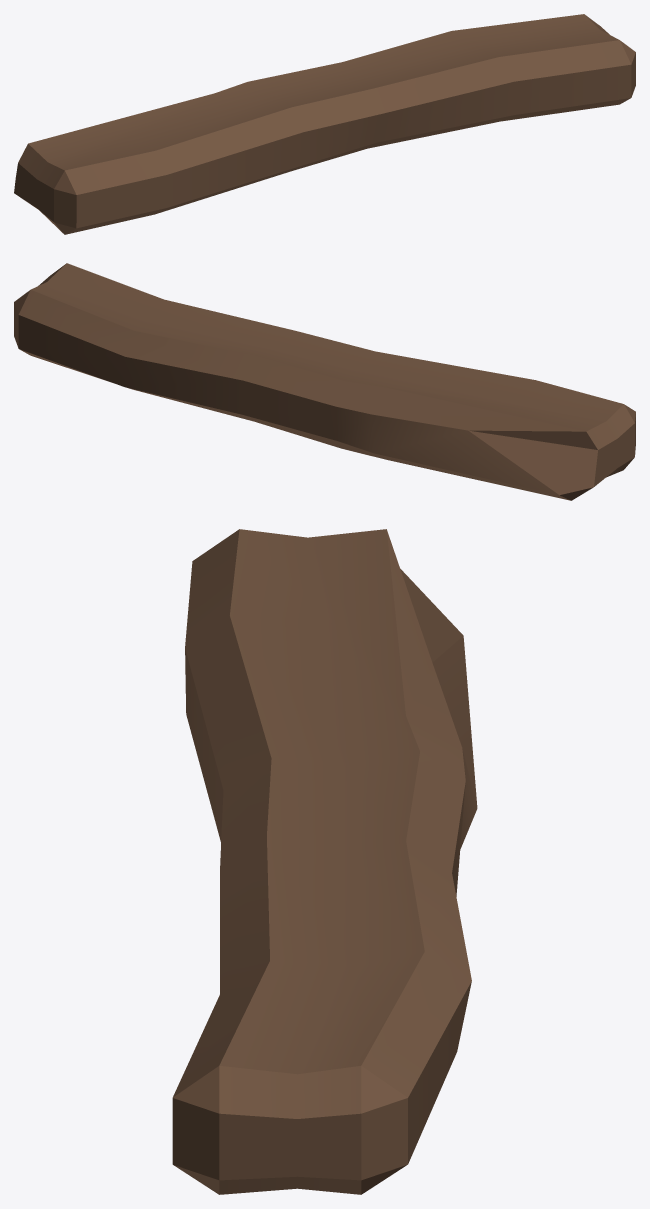
Rendered from invwood3.fbx.
3 views of the same model, one above another, from view 1: azimuth 30°, elevation 25°; view 2: azimuth 150°, elevation 25°; view 3: azimuth 270°, elevation 25° (orthographic). The views are drawn at different scales.
Visible parts, largest first — view 1: pCube34.001; view 2: pCube34.001; view 3: pCube34.001.
Part boxes in pixels (x1,y1,x2,y2): pCube34.001: [14, 14, 635, 234]; pCube34.001: [14, 263, 635, 500]; pCube34.001: [172, 529, 477, 1194].
Size of the model in its own units: 0.5303 by 0.0567 by 0.1214.
